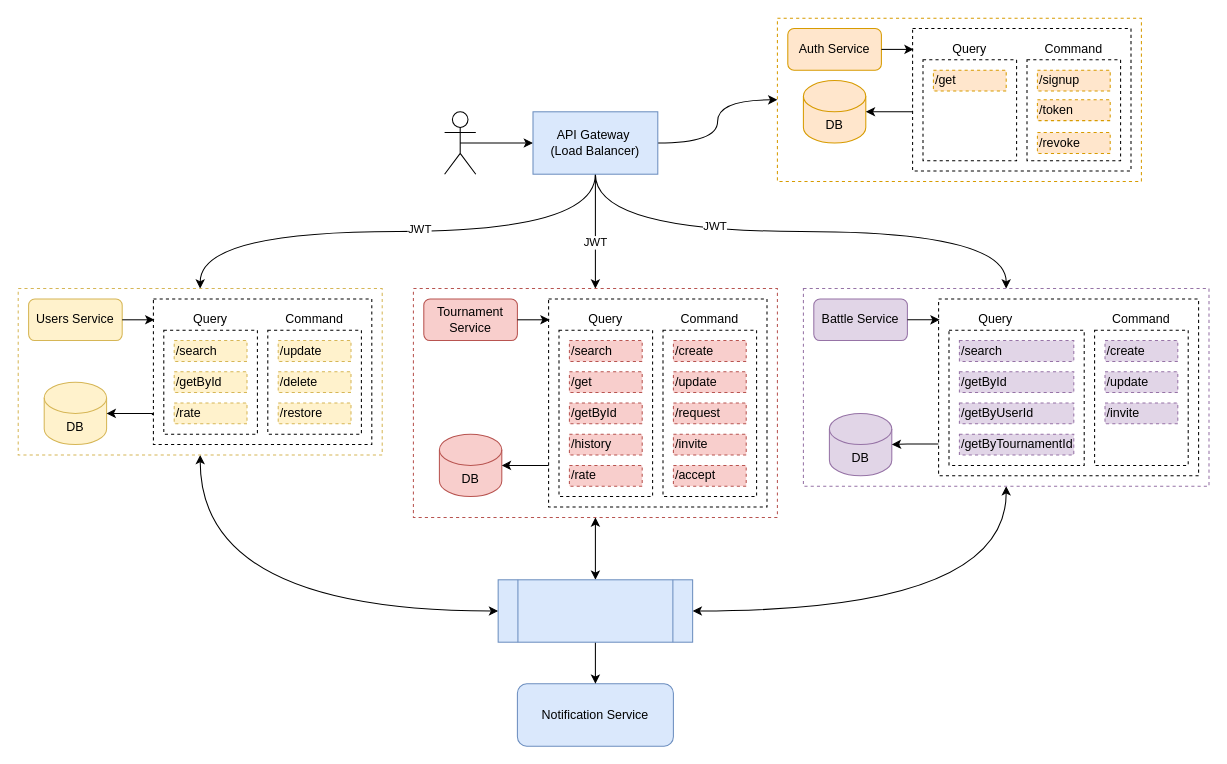
The diagram is 1227 pixels wide and 764 high, and some of its shapes have lost their labels. Each missing label, with the centre of its shape:
"Queue" goes at (x=595, y=610).
"User" goes at (x=460, y=142).
